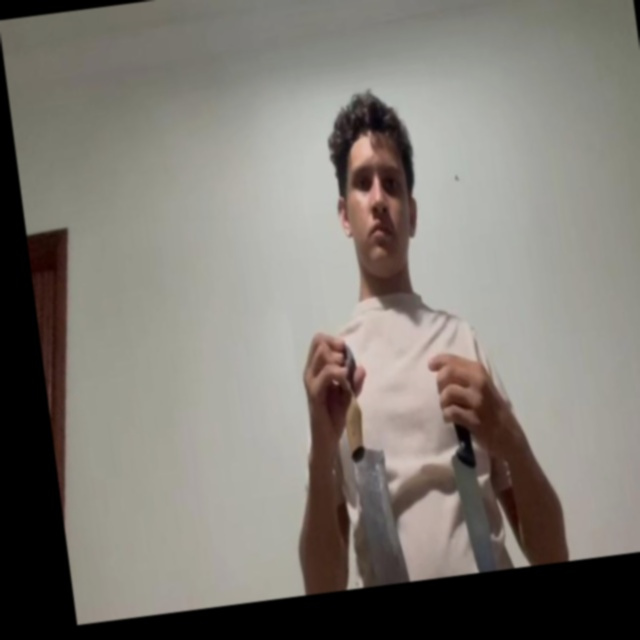Sharp-Object: (352, 447, 409, 587), (450, 451, 495, 575)
